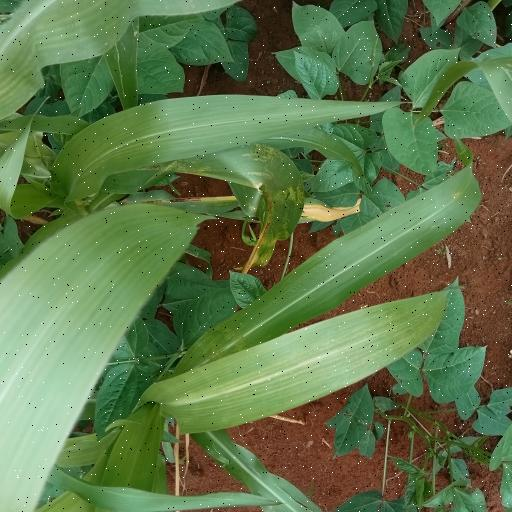Corn_Brown_Spots: (150, 289, 443, 432)
